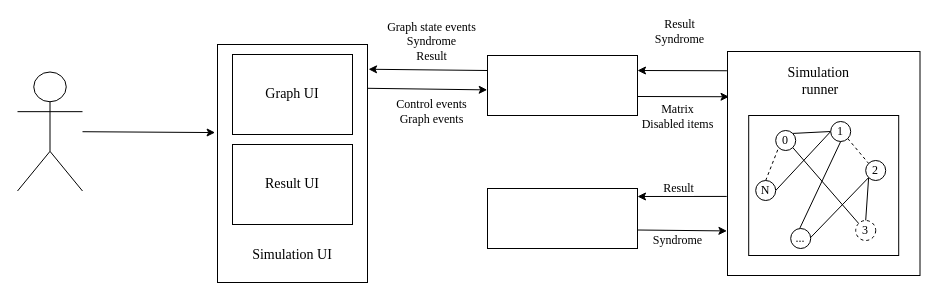
Some shapes in this 938 by 301 pixel diagram are drawn without their labels. Each missing label, with the centre of its shape:
Simulation service: pixel 562 85
Syndrome decoder: pixel 562 218
User: pixel 49 131
